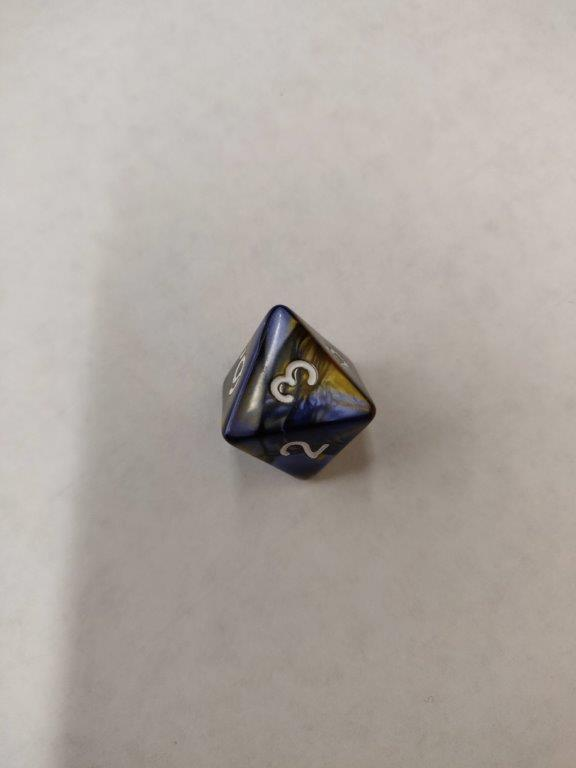d8-3: (216, 302, 379, 483)
